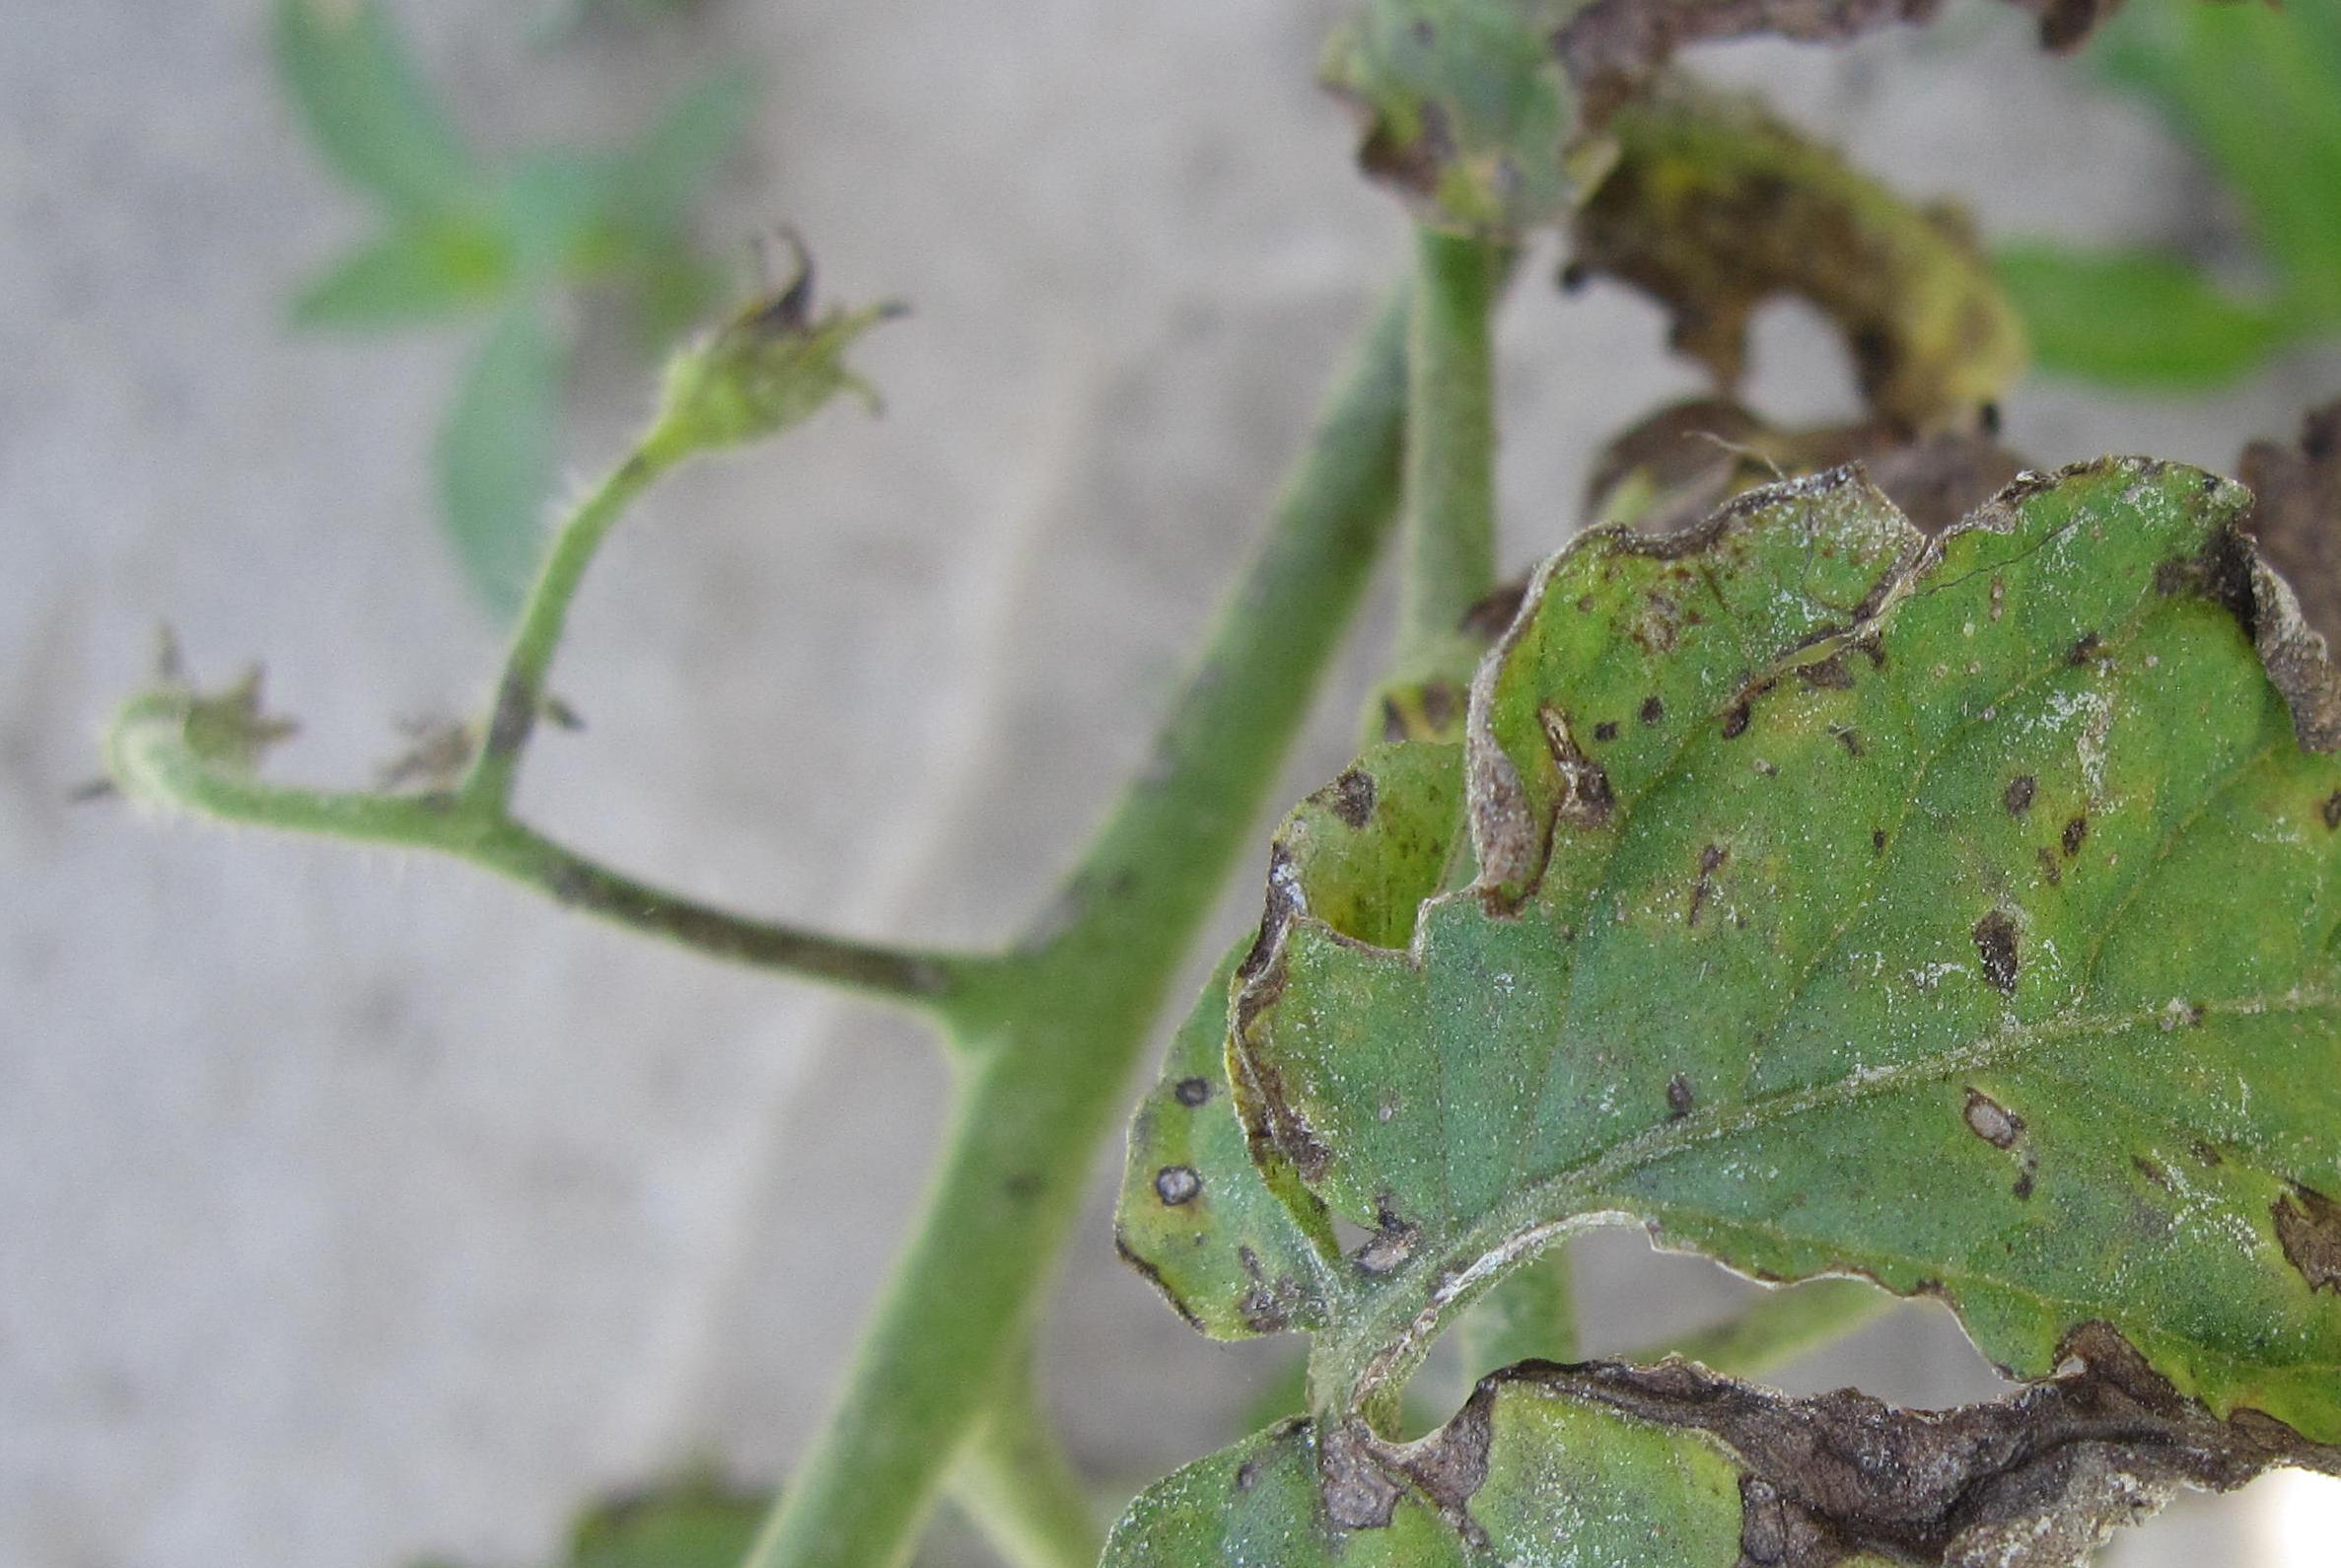Tomato leaf bacterial spot: (955, 339, 2341, 1568)
